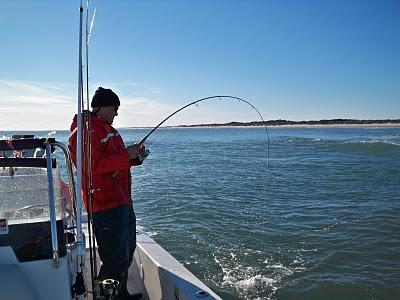person: (69, 88, 147, 300)
